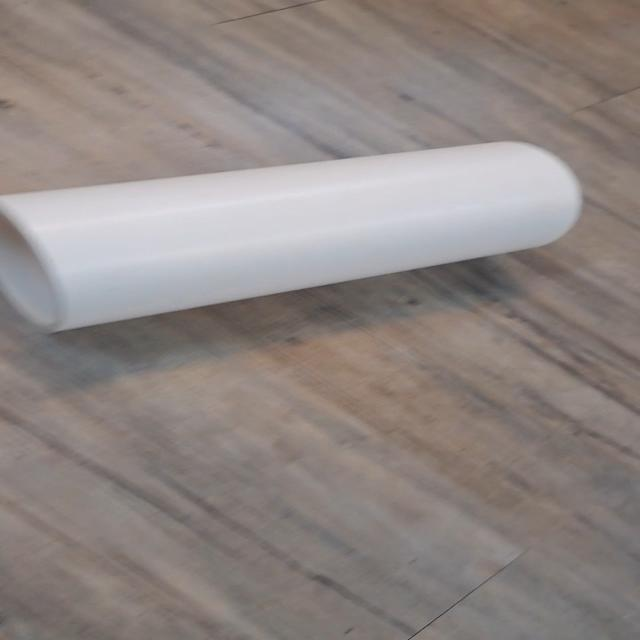CORAL: (0, 131, 588, 339)
